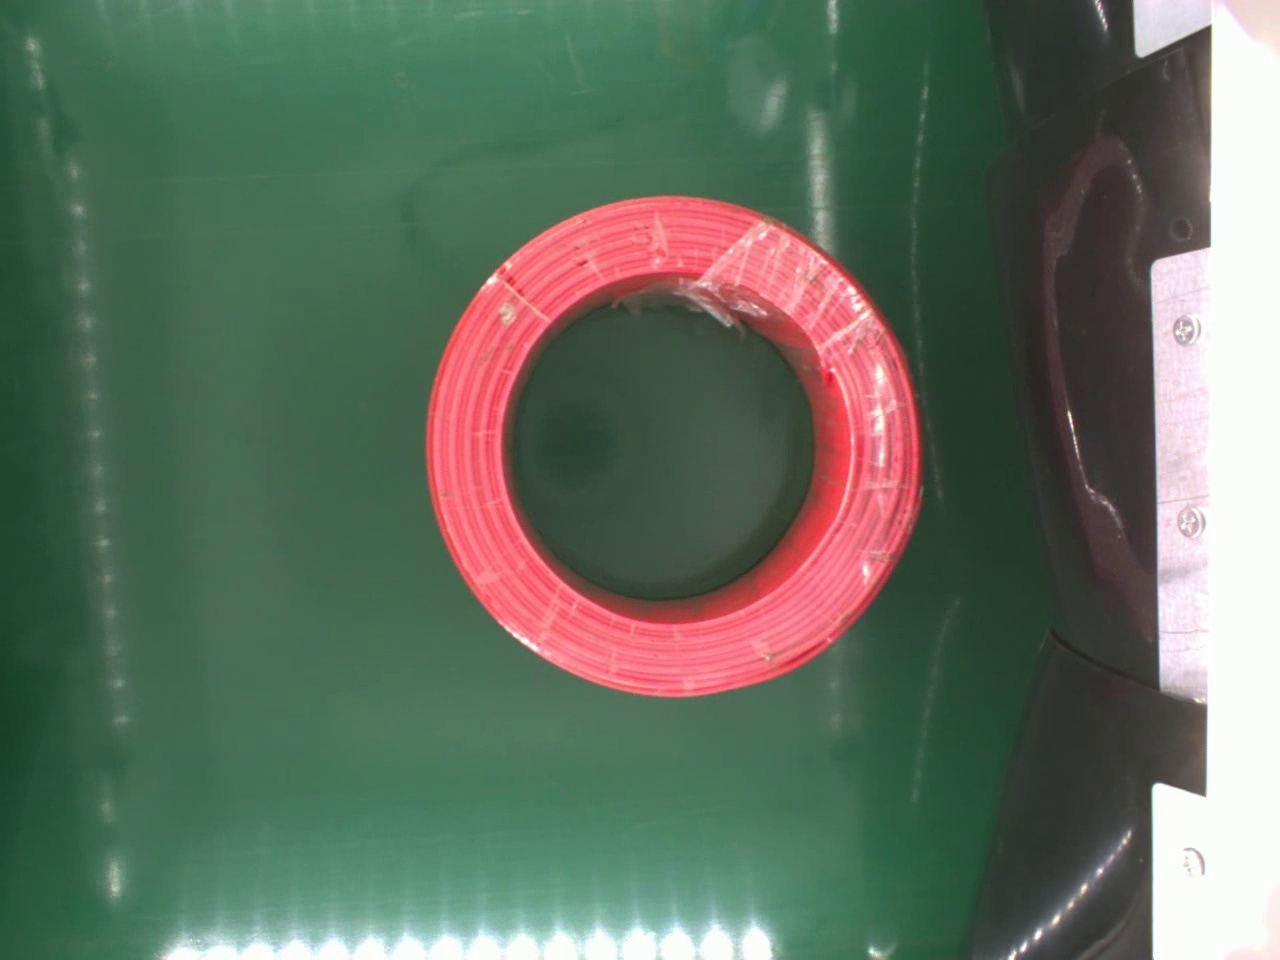red: (420, 191, 926, 700)
